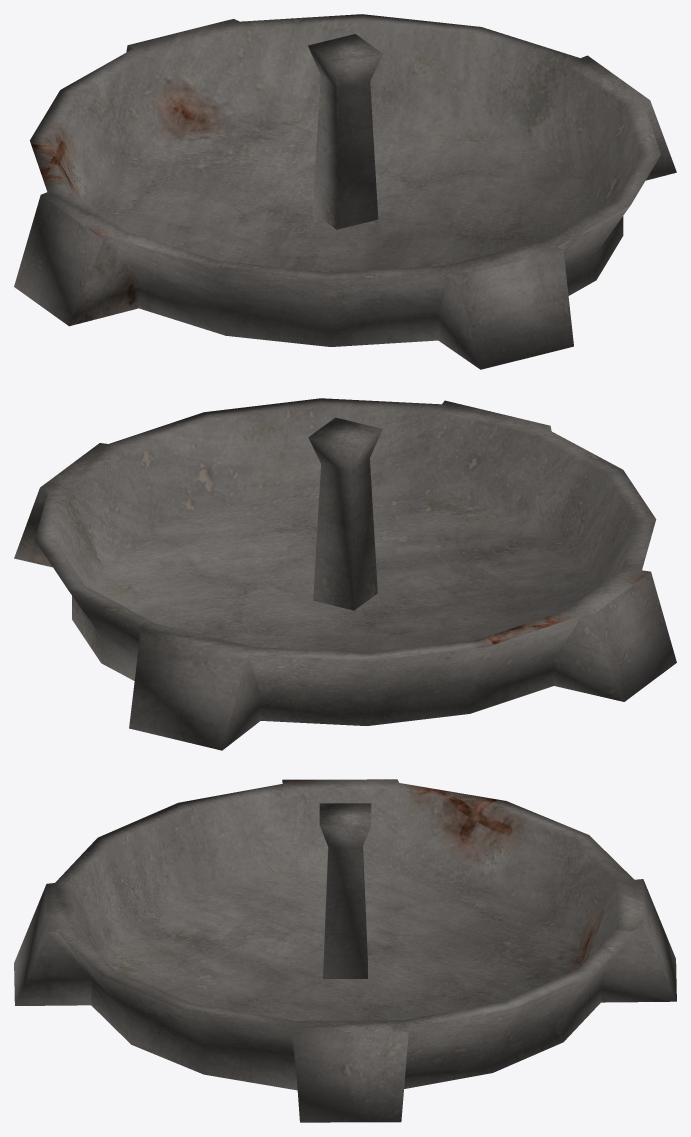
The model's file is fountain.fbx.
3 views of the same model, one above another, from view 1: azimuth 30°, elevation 25°; view 2: azimuth 150°, elevation 25°; view 3: azimuth 270°, elevation 25° (orthographic). The views are drawn at different scales.
Parts seen in each view (by area): view 1: Cylinder.001; view 2: Cylinder.001; view 3: Cylinder.001.
Boxes of the visible parts, <box> form: Cylinder.001: <box>14,14,676,369</box>; Cylinder.001: <box>14,398,676,750</box>; Cylinder.001: <box>14,779,676,1122</box>.
Size of the model in its own units: 938 by 263 by 938.
